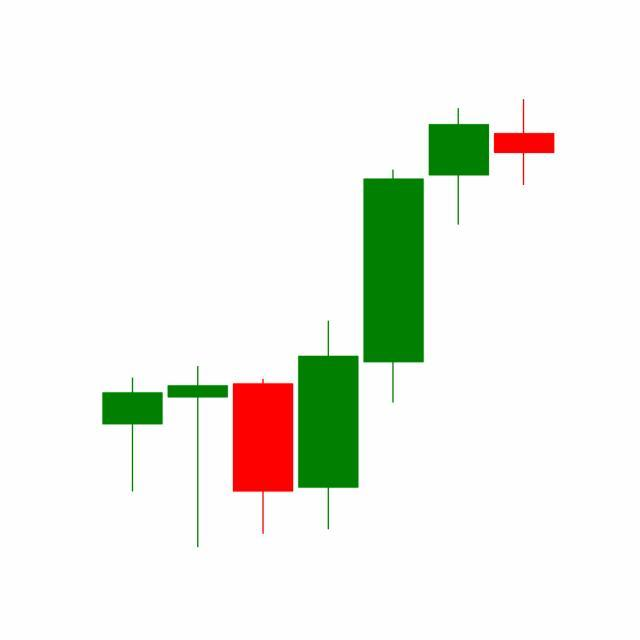Advance Block: (295, 105, 492, 535)
